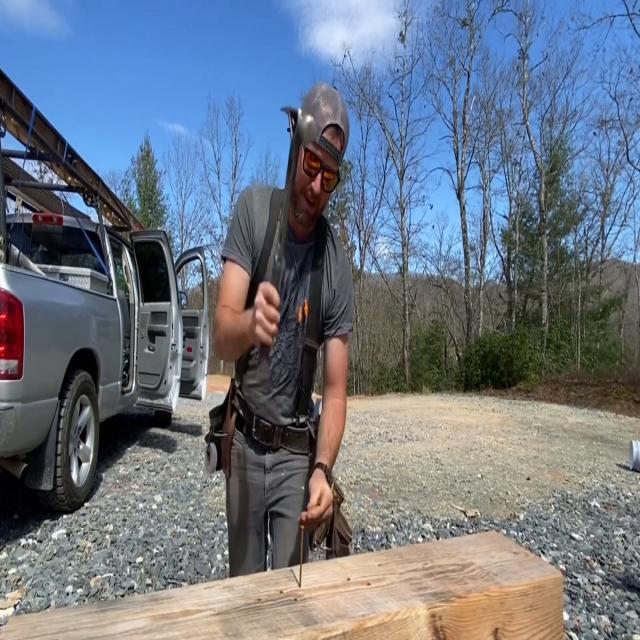hammer: (258, 97, 318, 382)
